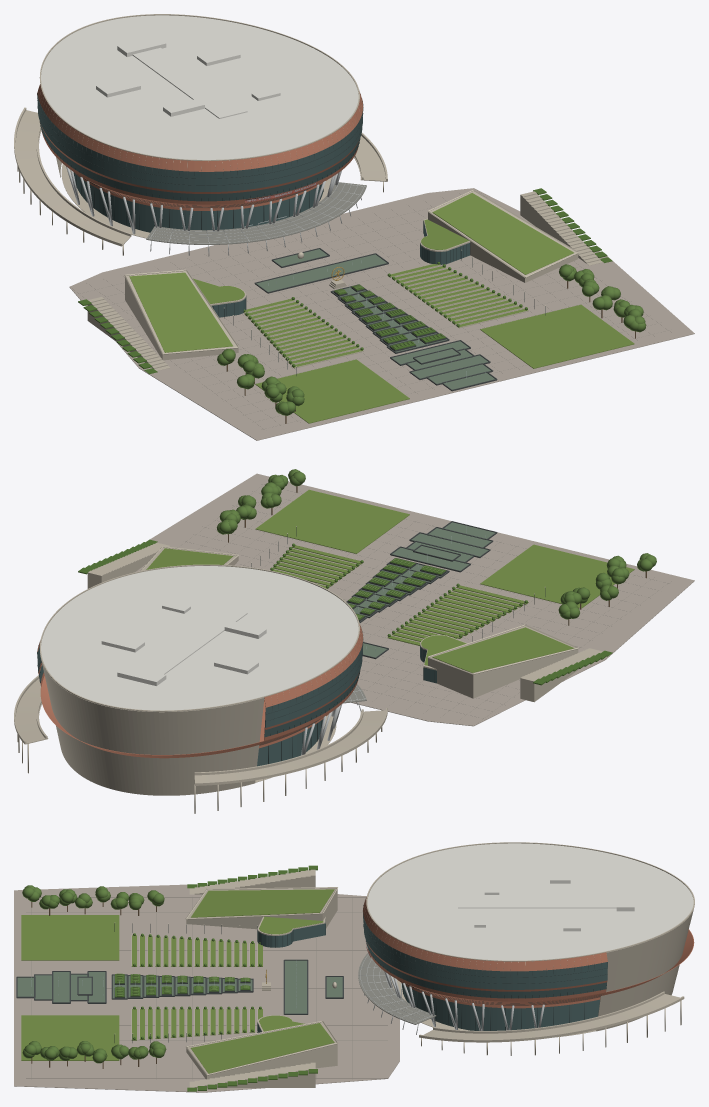
The model's file is bharat-mandapam.glb chat gpt.glb.
The picture shows the model from 3 angles, top to bottom: view 1: azimuth 30°, elevation 25°; view 2: azimuth 150°, elevation 25°; view 3: azimuth 270°, elevation 25°; orthographic projection. The views are drawn at different scales.
Parts seen in each view (by area): view 1: Marked site paving base, Pale roof deck, Front tall curtain glazing, East foreground lawn, West grass sloping roof, East grass sloping roof, West foreground lawn, Recessed ground floor glazing, Curved entrance canopy, Front upper terracotta crown, Attached side ramp deck, Shallow central roof raised strip (+14 smaller); view 2: Pale roof deck, Marked site paving base, Rear beige curved enclosure, East foreground lawn, West foreground lawn, West grass sloping roof, West sloping wing mass, Shallow central roof raised strip, Front tall curtain glazing, Attached side ramp deck, Roof perimeter coping, Front upper terracotta crown (+12 smaller); view 3: Marked site paving base, Pale roof deck, Rear beige curved enclosure, Front tall curtain glazing, West foreground lawn, Recessed ground floor glazing, East foreground lawn, East grass sloping roof, West grass sloping roof, Front upper terracotta crown, Shallow central roof raised strip, East sloping wing mass (+20 smaller).
Part boxes in pixels (x1,y1,x2,y2): Marked site paving base: (69,188,694,440); Pale roof deck: (41,15,358,159); Front tall curtain glazing: (37,94,362,191); East foreground lawn: (480,304,634,368); West grass sloping roof: (129,272,232,352); East grass sloping roof: (432,193,573,274); West foreground lawn: (255,359,409,423); Recessed ground floor glazing: (73,172,323,232); Curved entrance canopy: (146,182,366,244); Front upper terracotta crown: (37,84,363,171); Attached side ramp deck: (15,110,131,245); Shallow central roof raised strip: (132,47,247,118); Pale roof deck: (41,566,358,711); Marked site paving base: (136,473,694,726); Rear beige curved enclosure: (41,659,264,795); East foreground lawn: (255,489,409,553); West foreground lawn: (480,544,634,608); West grass sloping roof: (432,627,574,672); West sloping wing mass: (428,626,578,698); Shallow central roof raised strip: (136,606,247,674); Front tall curtain glazing: (37,643,362,727); Attached side ramp deck: (194,710,385,782); Roof perimeter coping: (39,564,359,711); Front upper terracotta crown: (37,624,363,707); Marked site paving base: (14,884,399,1092); Pale roof deck: (367,843,693,960); Rear beige curved enclosure: (596,909,693,1031); Front tall curtain glazing: (363,915,607,989); West foreground lawn: (21,915,119,960); Recessed ground floor glazing: (402,983,599,1030); East foreground lawn: (21,1015,119,1060); East grass sloping roof: (190,1023,334,1073); West grass sloping roof: (191,889,334,917); Front upper terracotta crown: (363,896,607,971); Shallow central roof raised strip: (458,895,616,908); East sloping wing mass: (186,1022,337,1079).
Size of what is drawn, in the model's own units: 166 by 33.52 by 229.
Materials: 19 (1 with a texture image).
